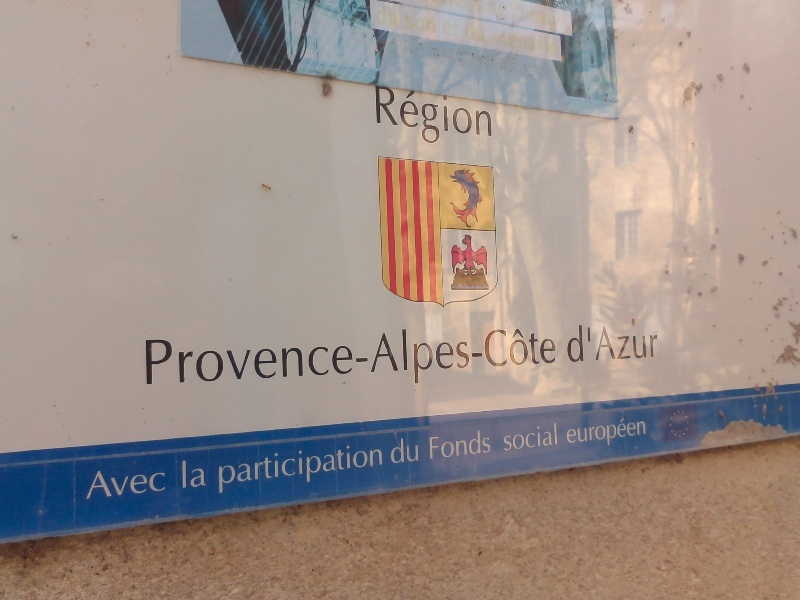text: (145, 325, 160, 402), (161, 325, 176, 402), (177, 325, 192, 402), (193, 325, 208, 402), (209, 325, 224, 402), (225, 325, 240, 402), (241, 325, 256, 402), (257, 325, 272, 402), (273, 325, 288, 402), (289, 325, 304, 402), (305, 325, 320, 402), (321, 325, 336, 402), (337, 325, 352, 402), (353, 325, 368, 402), (369, 325, 384, 402), (385, 325, 400, 402), (401, 325, 416, 402), (417, 325, 432, 402), (433, 325, 448, 402), (449, 325, 464, 402), (465, 325, 480, 402), (481, 325, 496, 402), (497, 325, 512, 402), (513, 325, 528, 402), (529, 325, 544, 402), (545, 325, 560, 402), (385, 84, 400, 155), (401, 84, 416, 155), (417, 84, 432, 155), (433, 84, 448, 155), (449, 84, 464, 155), (465, 84, 480, 155), (481, 84, 495, 155), (225, 441, 240, 497), (241, 441, 256, 497), (257, 441, 272, 497), (273, 441, 288, 497), (289, 441, 304, 497), (305, 441, 320, 497), (321, 441, 336, 497), (337, 441, 352, 497), (353, 441, 368, 497), (369, 441, 384, 497), (375, 84, 384, 155), (577, 324, 592, 365), (593, 324, 608, 365), (609, 324, 624, 365), (625, 324, 640, 365), (641, 324, 656, 365), (97, 463, 112, 501), (113, 463, 128, 501), (129, 463, 144, 501), (145, 463, 160, 501), (577, 414, 592, 452), (593, 414, 608, 452), (609, 414, 624, 452), (625, 414, 640, 452), (497, 2, 512, 35), (513, 2, 528, 35), (529, 2, 544, 35), (545, 2, 560, 35), (564, 324, 576, 365), (433, 429, 448, 460), (449, 429, 464, 460), (465, 429, 480, 460), (497, 27, 512, 58), (513, 27, 528, 58), (529, 27, 544, 58), (545, 27, 560, 58), (513, 422, 528, 452), (529, 422, 544, 452), (401, 436, 416, 466), (385, 4, 401, 31), (545, 422, 559, 452), (193, 460, 207, 490), (161, 463, 172, 501), (217, 441, 224, 497), (566, 414, 576, 452), (465, 20, 480, 43), (481, 429, 492, 460), (417, 14, 432, 36), (641, 414, 649, 452), (390, 436, 400, 466), (503, 422, 512, 452), (183, 460, 192, 490), (449, 18, 461, 39), (405, 14, 416, 36), (561, 325, 564, 402), (561, 2, 568, 35), (376, 4, 384, 31), (91, 463, 96, 501), (491, 27, 496, 58), (481, 20, 487, 43), (433, 14, 439, 36), (442, 18, 448, 39), (428, 429, 432, 460), (657, 324, 660, 365), (417, 436, 421, 466), (493, 2, 496, 35), (143, 325, 144, 402), (463, 20, 464, 43)
